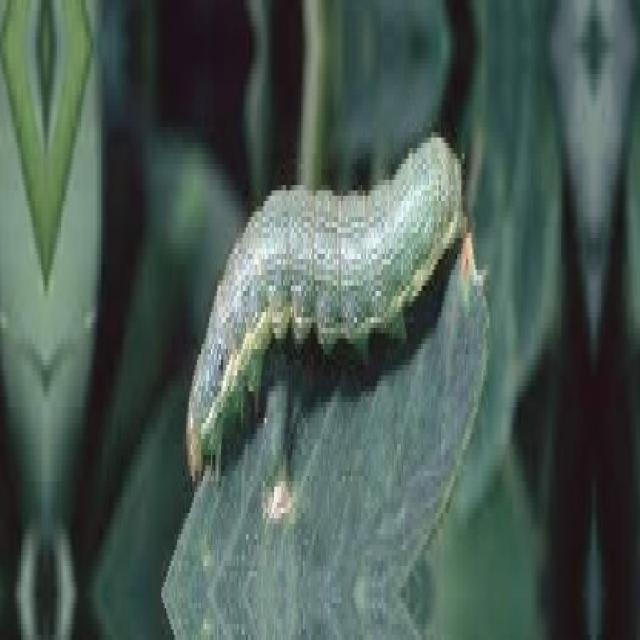armyworm: (185, 127, 468, 481)
